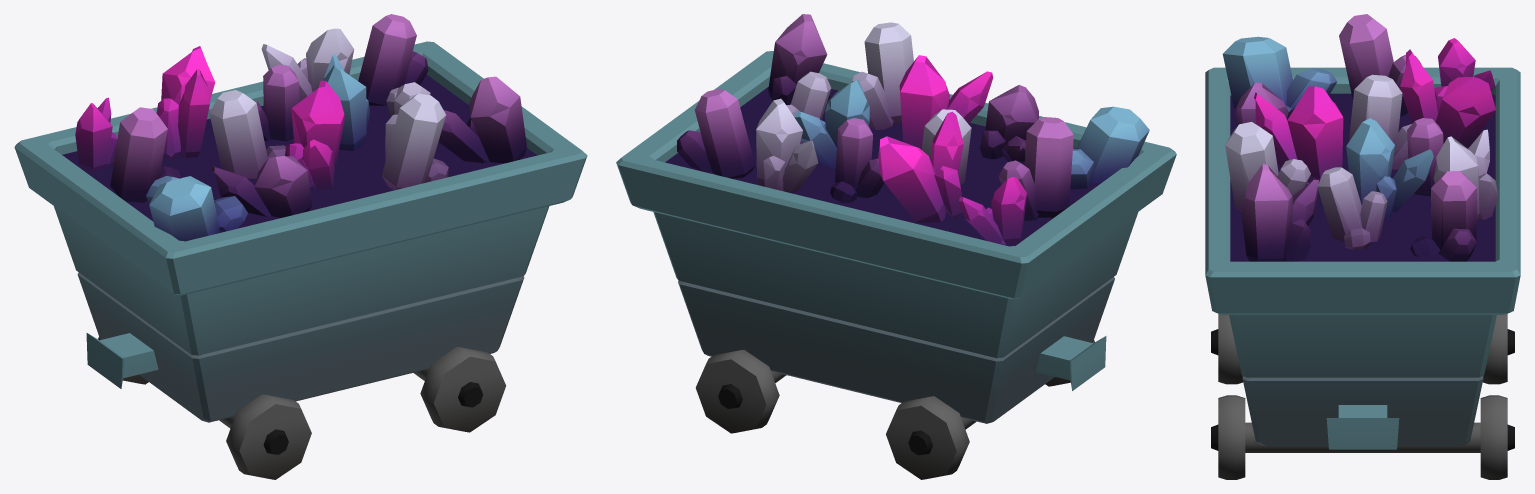
The model's file is Trolley.fbx.
3 renders of one model, left to right at view 1: azimuth 30°, elevation 25°; view 2: azimuth 150°, elevation 25°; view 3: azimuth 270°, elevation 25°, orthographic. The views are drawn at different scales.
Parts seen in each view (by area): view 1: Trolley; view 2: Trolley; view 3: Trolley.
Part boxes in pixels (x1,y1,x2,y2): Trolley: [14, 14, 587, 479]; Trolley: [616, 14, 1176, 479]; Trolley: [1205, 14, 1520, 479].
Bounding box in the file's own units: 199 × 155 × 128.
